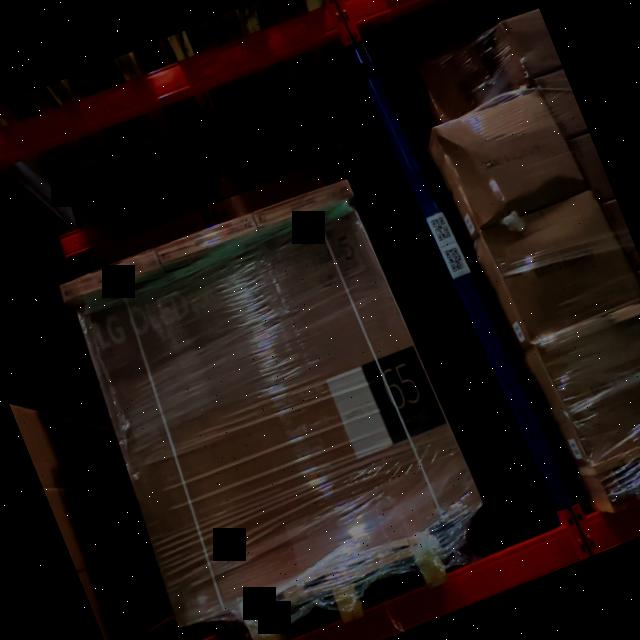box: (79, 213, 482, 625), (58, 246, 164, 309), (252, 170, 354, 230), (156, 208, 258, 266)
